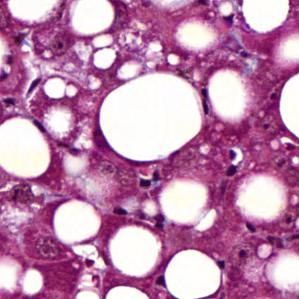steatosis: (100, 72, 204, 164), (164, 247, 224, 299), (50, 196, 104, 244)
